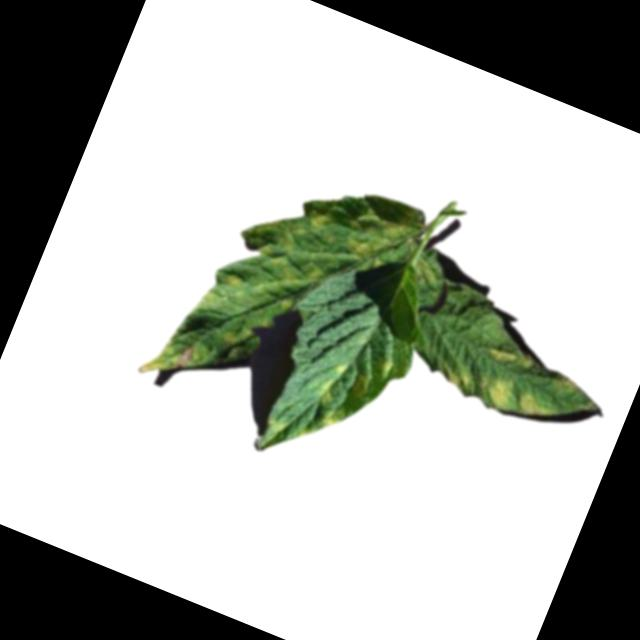Leaf_Mold: (131, 148, 409, 443), (437, 355, 554, 429), (484, 339, 583, 399), (307, 357, 377, 440)
